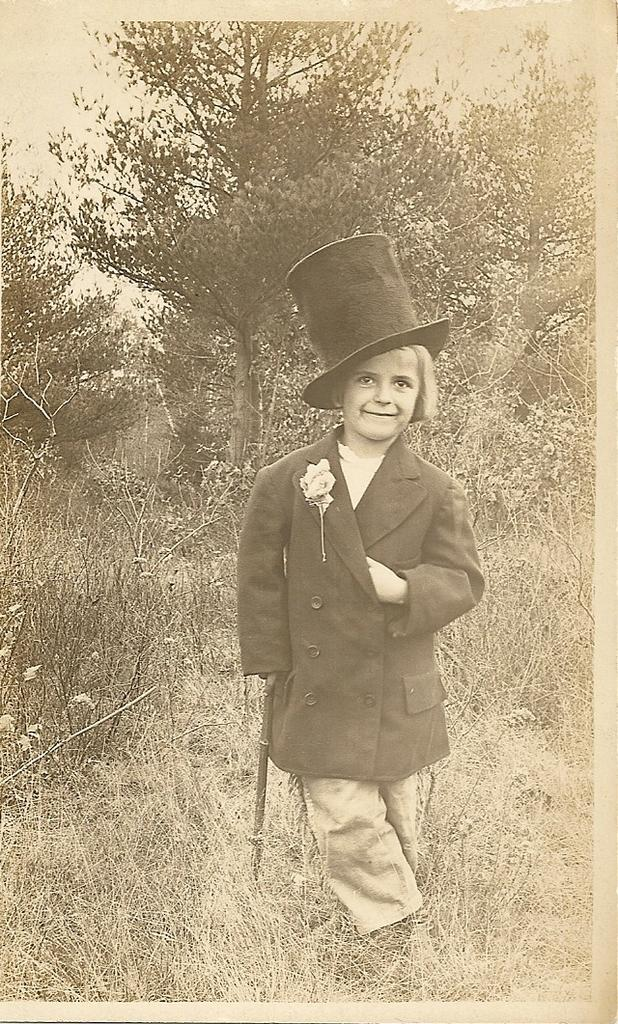Hat: (284, 232, 449, 412)
